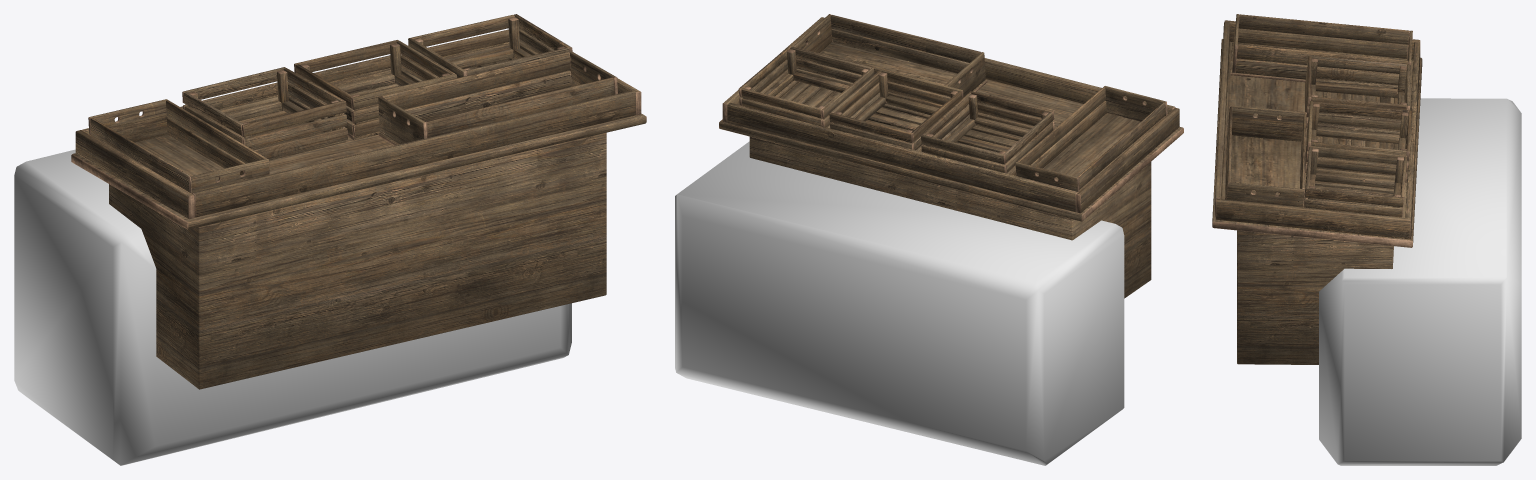
The model's file is SM_ShoppingRack.fbx.
3 renders of one model, left to right at view 1: azimuth 30°, elevation 25°; view 2: azimuth 150°, elevation 25°; view 3: azimuth 270°, elevation 25°, orthographic. The views are drawn at different scales.
Parts seen in each view (by area): view 1: SM_ShoppingRack, SM_ShoppingRack_ConvexHulls; view 2: SM_ShoppingRack_ConvexHulls, SM_ShoppingRack; view 3: SM_ShoppingRack_ConvexHulls, SM_ShoppingRack.
Part boxes in pixels (x1,y1,x2,y2): SM_ShoppingRack: (71, 14, 646, 389); SM_ShoppingRack_ConvexHulls: (14, 149, 571, 465); SM_ShoppingRack_ConvexHulls: (675, 141, 1124, 465); SM_ShoppingRack: (719, 14, 1183, 298); SM_ShoppingRack_ConvexHulls: (1319, 98, 1521, 465); SM_ShoppingRack: (1212, 14, 1422, 364).
Bounding box in the file's own units: 2.54 × 1.76 × 1.79.
